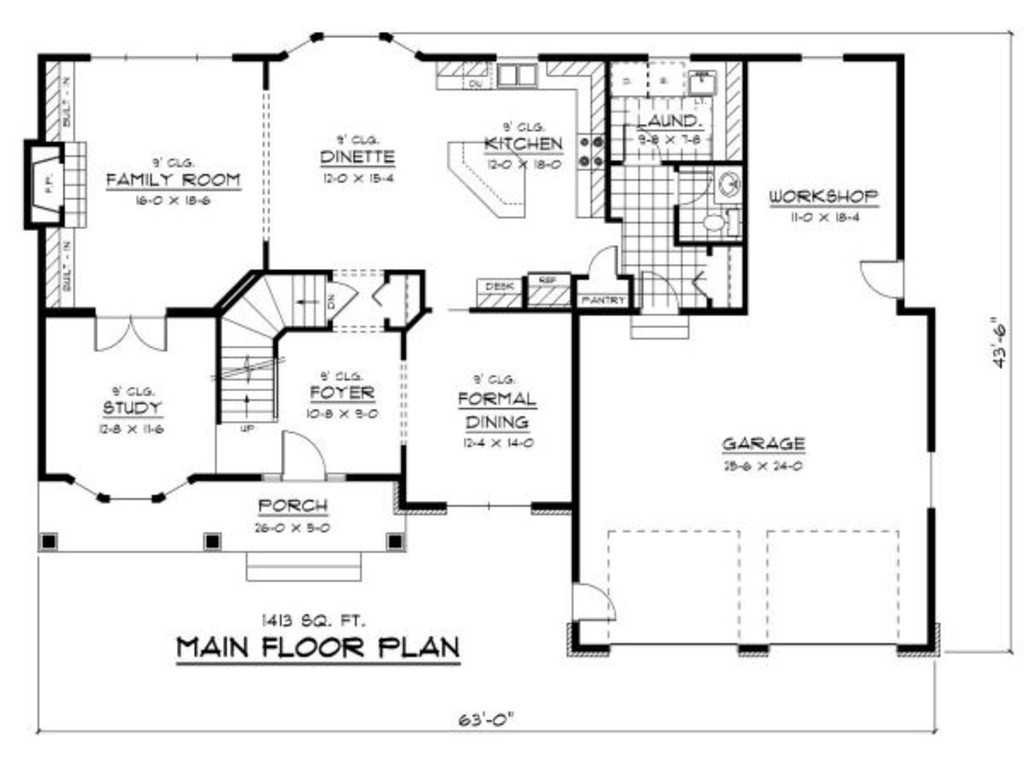door: (89, 310, 172, 359), (276, 428, 327, 480), (568, 580, 620, 629), (855, 255, 904, 302), (585, 238, 621, 285)
kitchen_bar: (439, 138, 530, 224)
large_sink: (701, 206, 743, 236)
small_sink: (713, 170, 742, 203)
stairs: (211, 271, 332, 429)
twin_sink: (493, 61, 538, 90)
windows: (289, 26, 414, 61), (68, 472, 190, 504), (87, 43, 243, 67), (791, 48, 849, 68), (924, 444, 940, 510)
